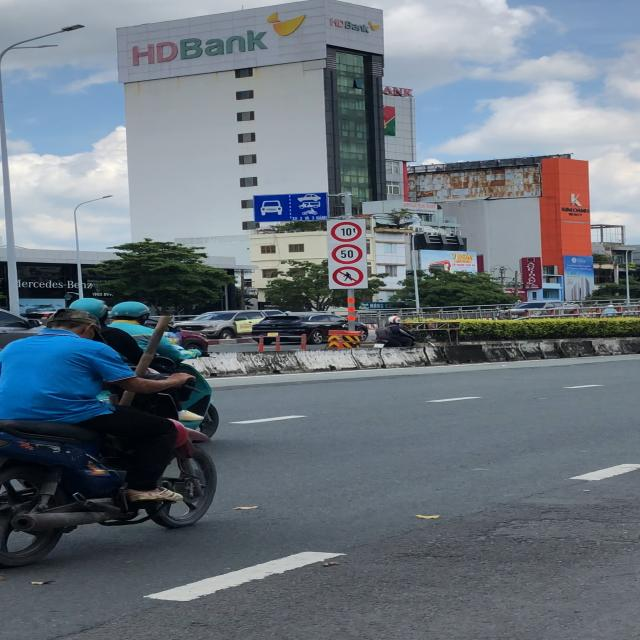Bien bao cam nguoi di bo: (332, 266, 366, 288)
Bien bao toc do toi da cho phep: (327, 243, 367, 264)
